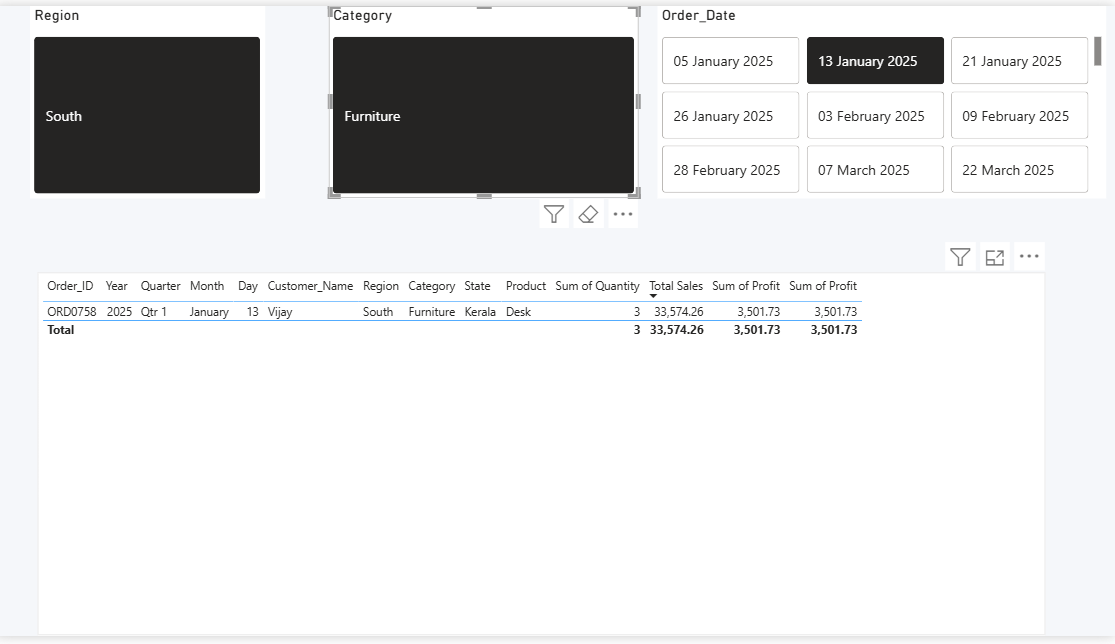

The dashboard page shown, as its layout file describes it:
{"tool":"powerbi","page":{"name":"Detailed Sales","canvas":[1280,720],"ordinal":3},"visuals":[{"type":"tableEx","fields":{"Values":["Sheet1.Order_ID","Sheet1.Order_Date.Variation.Date Hierarchy.Year","Sheet1.Order_Date.Variation.Date Hierarchy.Quarter","Sheet1.Order_Date.Variation.Date Hierarchy.Month","Sheet1.Order_Date.Variation.Date Hierarchy.Day","Sheet1.Customer_Name","Sheet1.Region","Sheet1.Category","Sheet1.State","Sheet1.Product","Sum(Sheet1.Quantity)","Sheet1.Total Sales"]},"box":[48,304,1152,416],"z":0},{"type":"advancedSlicerVisual","fields":{"Values":["Sheet1.Category"]},"box":[381.4,0,354.3,220],"z":1000},{"type":"advancedSlicerVisual","fields":{"Values":["Sheet1.Region"]},"box":[40,0,268.6,220],"z":2000},{"type":"advancedSlicerVisual","fields":{"Values":["Sheet1.Order_Date"]},"box":[757.1,0,512.9,220],"z":3000}]}

Visuals, with their boxes in screenshot pixels (x1, y1, x2, y2), scaled from the page's 1280x720 canvas onto the 1115x644 screenshot:
tableEx - Sheet1.Order_ID x Sheet1.Order_Date.Variation.Date Hierarchy.Year: crop(42, 272, 1045, 643)
advancedSlicerVisual - Sheet1.Category: crop(332, 0, 641, 197)
advancedSlicerVisual - Sheet1.Region: crop(35, 0, 269, 197)
advancedSlicerVisual - Sheet1.Order_Date: crop(660, 0, 1106, 197)
